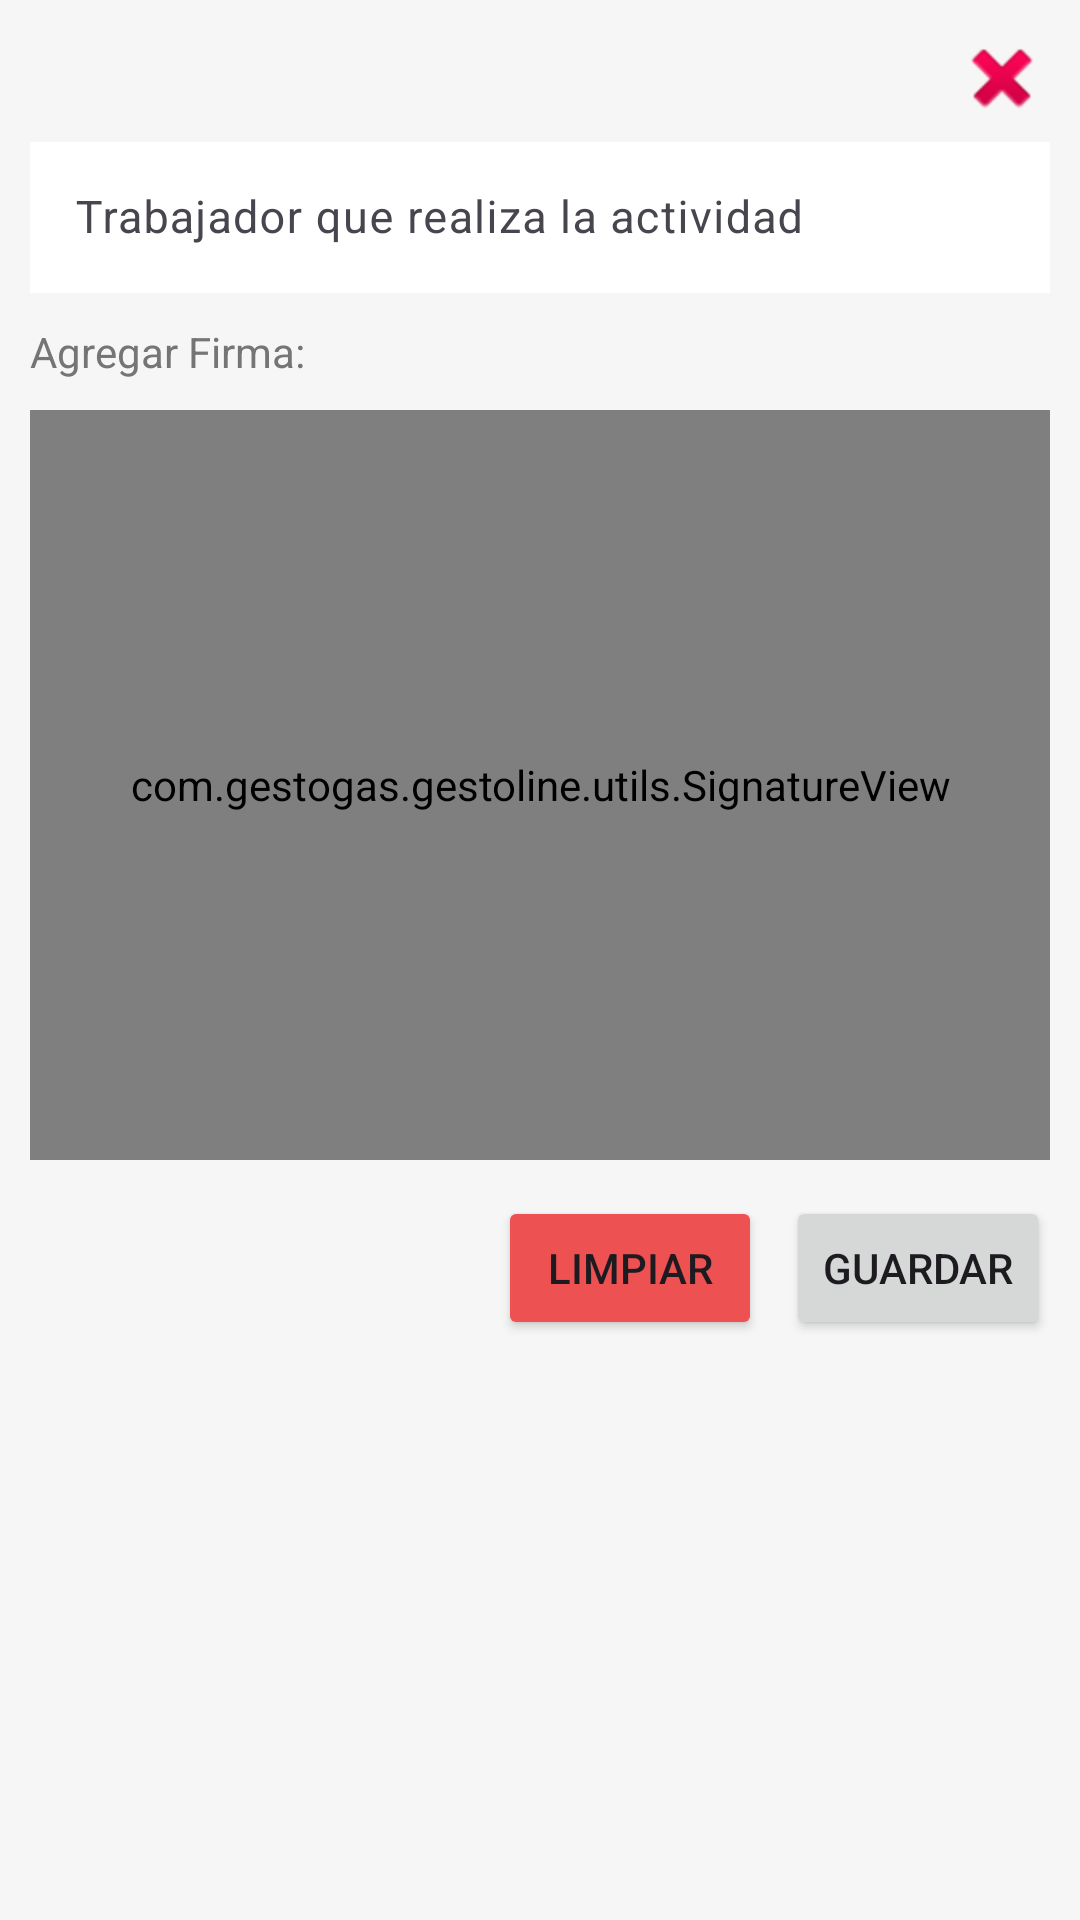

Icon click points for this 1080 x 1920 phone screenshot, format (x,y):
Eliminar: (1002,78)
